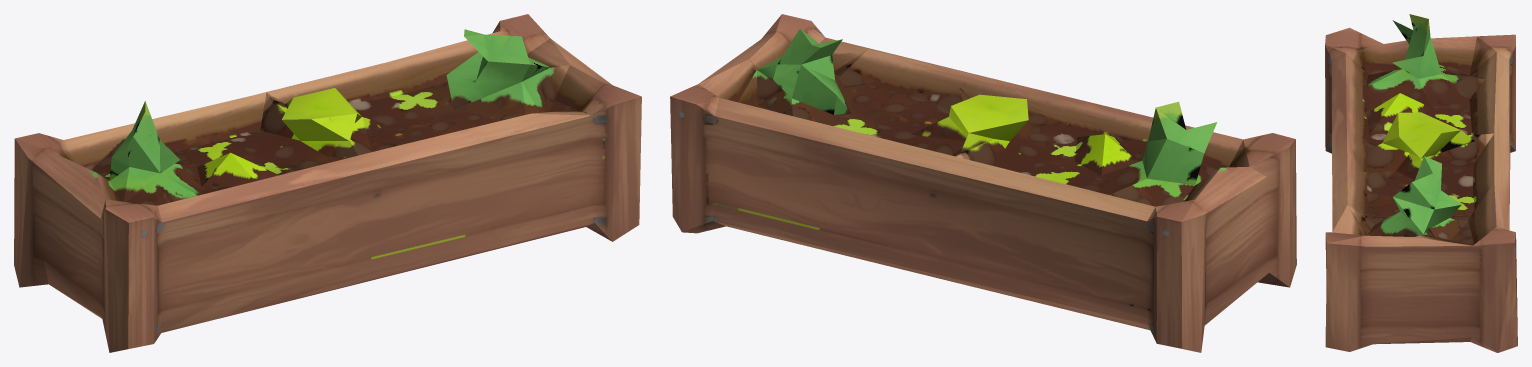
The model's file is planter_box_lod0.glb.
The picture shows the model from 3 angles, left to right: view 1: azimuth 30°, elevation 25°; view 2: azimuth 150°, elevation 25°; view 3: azimuth 270°, elevation 25°; orthographic projection. The views are drawn at different scales.
Parts seen in each view (by area): view 1: low; view 2: low; view 3: low.
Part boxes in pixels (bbox=[...]): low: bbox=[14, 14, 641, 352]; low: bbox=[670, 14, 1296, 352]; low: bbox=[1325, 14, 1517, 352].
Size of the model in its own units: 1.2 by 0.4311 by 0.4577.
Materials: 1 (1 with a texture image).
